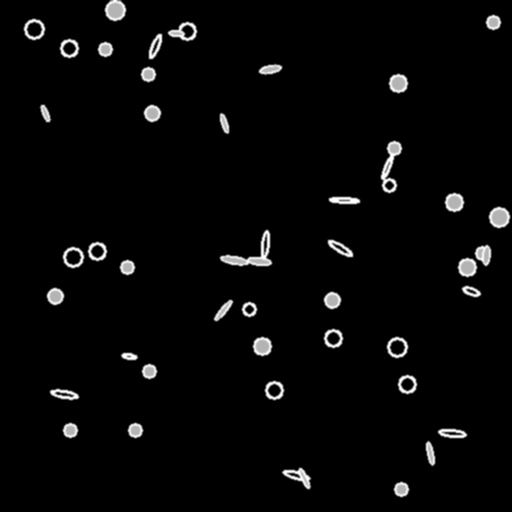pseudomonas: (327, 238, 353, 258), (213, 299, 233, 321), (147, 34, 163, 58), (380, 155, 394, 179), (282, 469, 310, 481), (438, 428, 466, 438), (260, 230, 270, 258), (51, 389, 77, 399), (221, 255, 247, 265), (425, 441, 435, 465), (298, 468, 310, 488), (248, 256, 270, 266), (462, 285, 480, 297), (39, 104, 51, 122), (260, 64, 280, 74), (219, 114, 229, 132), (330, 197, 358, 203), (482, 245, 490, 265), (121, 352, 137, 360), (168, 30, 184, 36)
synechocystis: (25, 20, 43, 38), (490, 208, 508, 226), (388, 338, 406, 356), (106, 1, 124, 19), (64, 248, 82, 266), (266, 382, 282, 398), (254, 338, 270, 354), (61, 40, 77, 56), (446, 194, 462, 210), (89, 243, 105, 259), (390, 75, 406, 91), (179, 23, 195, 39), (459, 259, 475, 275), (325, 330, 341, 346), (399, 376, 415, 392), (48, 289, 62, 303), (145, 106, 159, 120), (325, 293, 339, 307), (129, 424, 141, 436), (243, 303, 255, 315), (388, 142, 400, 154), (121, 261, 133, 273), (64, 424, 76, 436), (143, 365, 155, 377), (383, 179, 395, 191), (99, 43, 111, 55), (487, 16, 499, 28), (142, 68, 154, 80), (395, 483, 407, 495), (476, 247, 488, 259)
